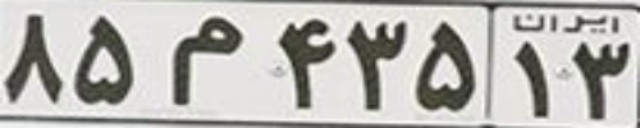1: (515, 40, 549, 117)
3: (345, 18, 405, 110), (569, 41, 631, 120)
4: (279, 17, 337, 111)
5: (412, 19, 474, 110), (74, 14, 135, 104)
8: (4, 13, 62, 102)
mim: (165, 16, 243, 105)
